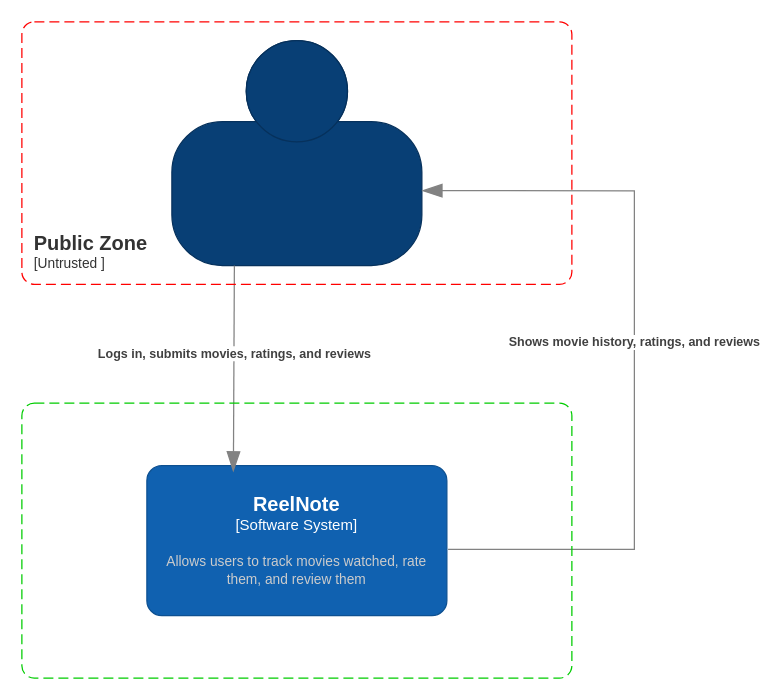
This 781x700 diagram has some shape labels left out. The box of each missing label's shape, as (x1, y1, x2, y2) in pixels:
ReelNote Server [Trusted]: (21, 402, 572, 678)
ReelNote User [Person] Person who is using ReelNote: (171, 39, 422, 266)
